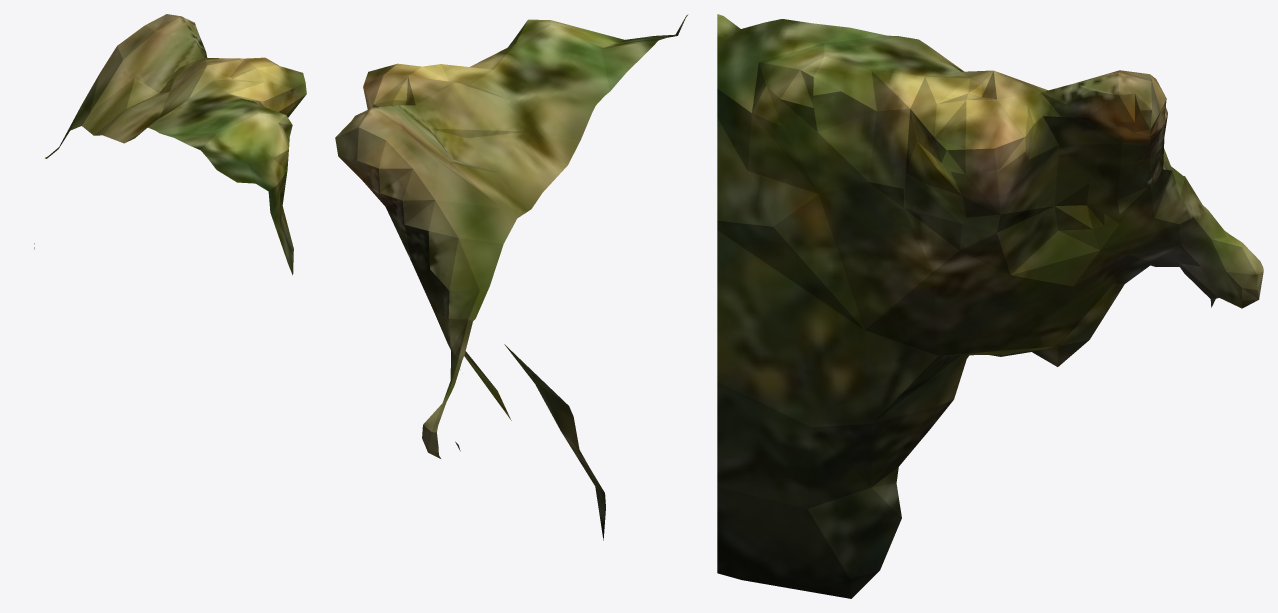
3 views of the same model, side by side, from view 1: azimuth 30°, elevation 25°; view 2: azimuth 150°, elevation 25°; view 3: azimuth 270°, elevation 25° (orthographic). The views are drawn at different scales.
Bounding box in the file's own units: 0.1815 × 0.4618 × 0.3844.
1 material, 1 textured.
